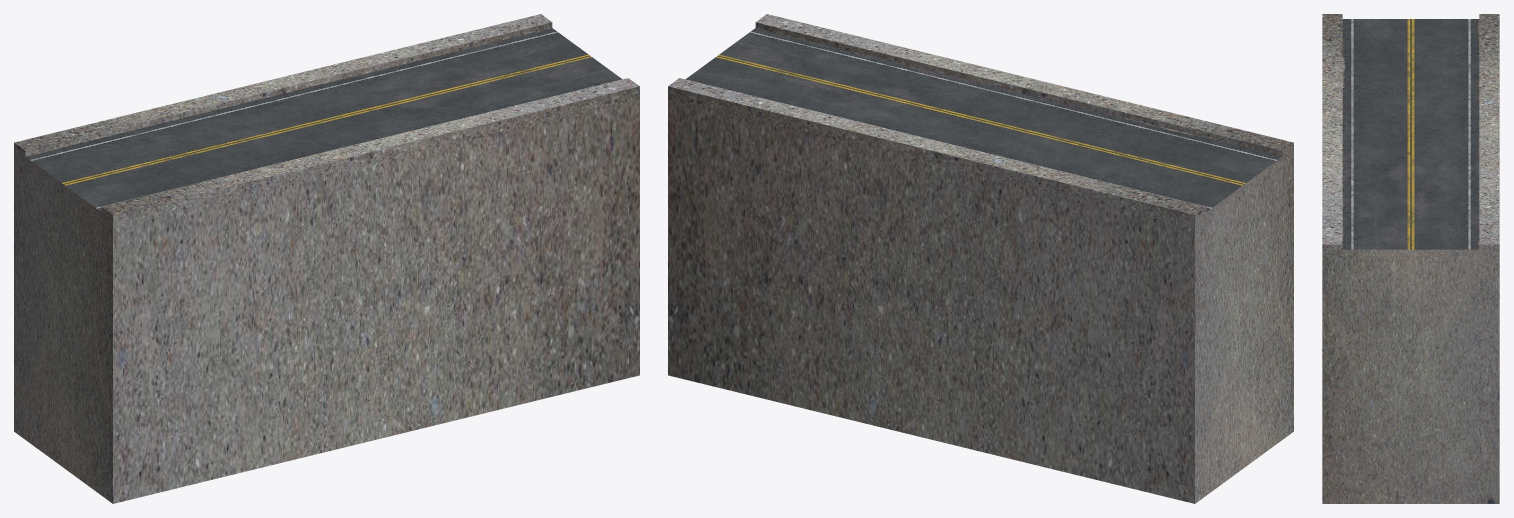
Rendered from straight-medium-empty.fbx.
The picture shows the model from 3 angles, left to right: view 1: azimuth 30°, elevation 25°; view 2: azimuth 150°, elevation 25°; view 3: azimuth 270°, elevation 25°; orthographic projection. The views are drawn at different scales.
Parts seen in each view (by area): view 1: Plane.024; view 2: Plane.024; view 3: Plane.024.
Boxes of the visible parts, x1,y1,x2,y2 form: Plane.024: (14,14,639,503); Plane.024: (668,14,1293,503); Plane.024: (1322,14,1499,503).
Bounding box in the file's own units: 4000 × 2096 × 1300.
